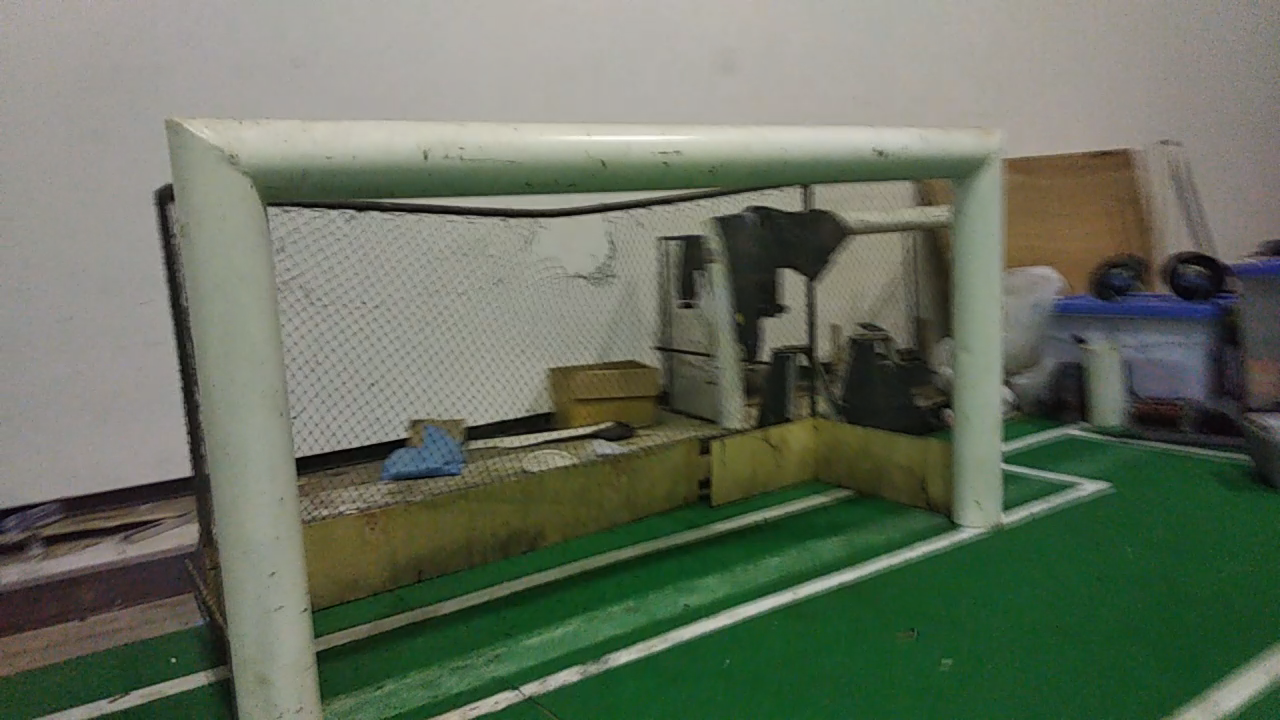gawang: (154, 104, 1028, 713)
